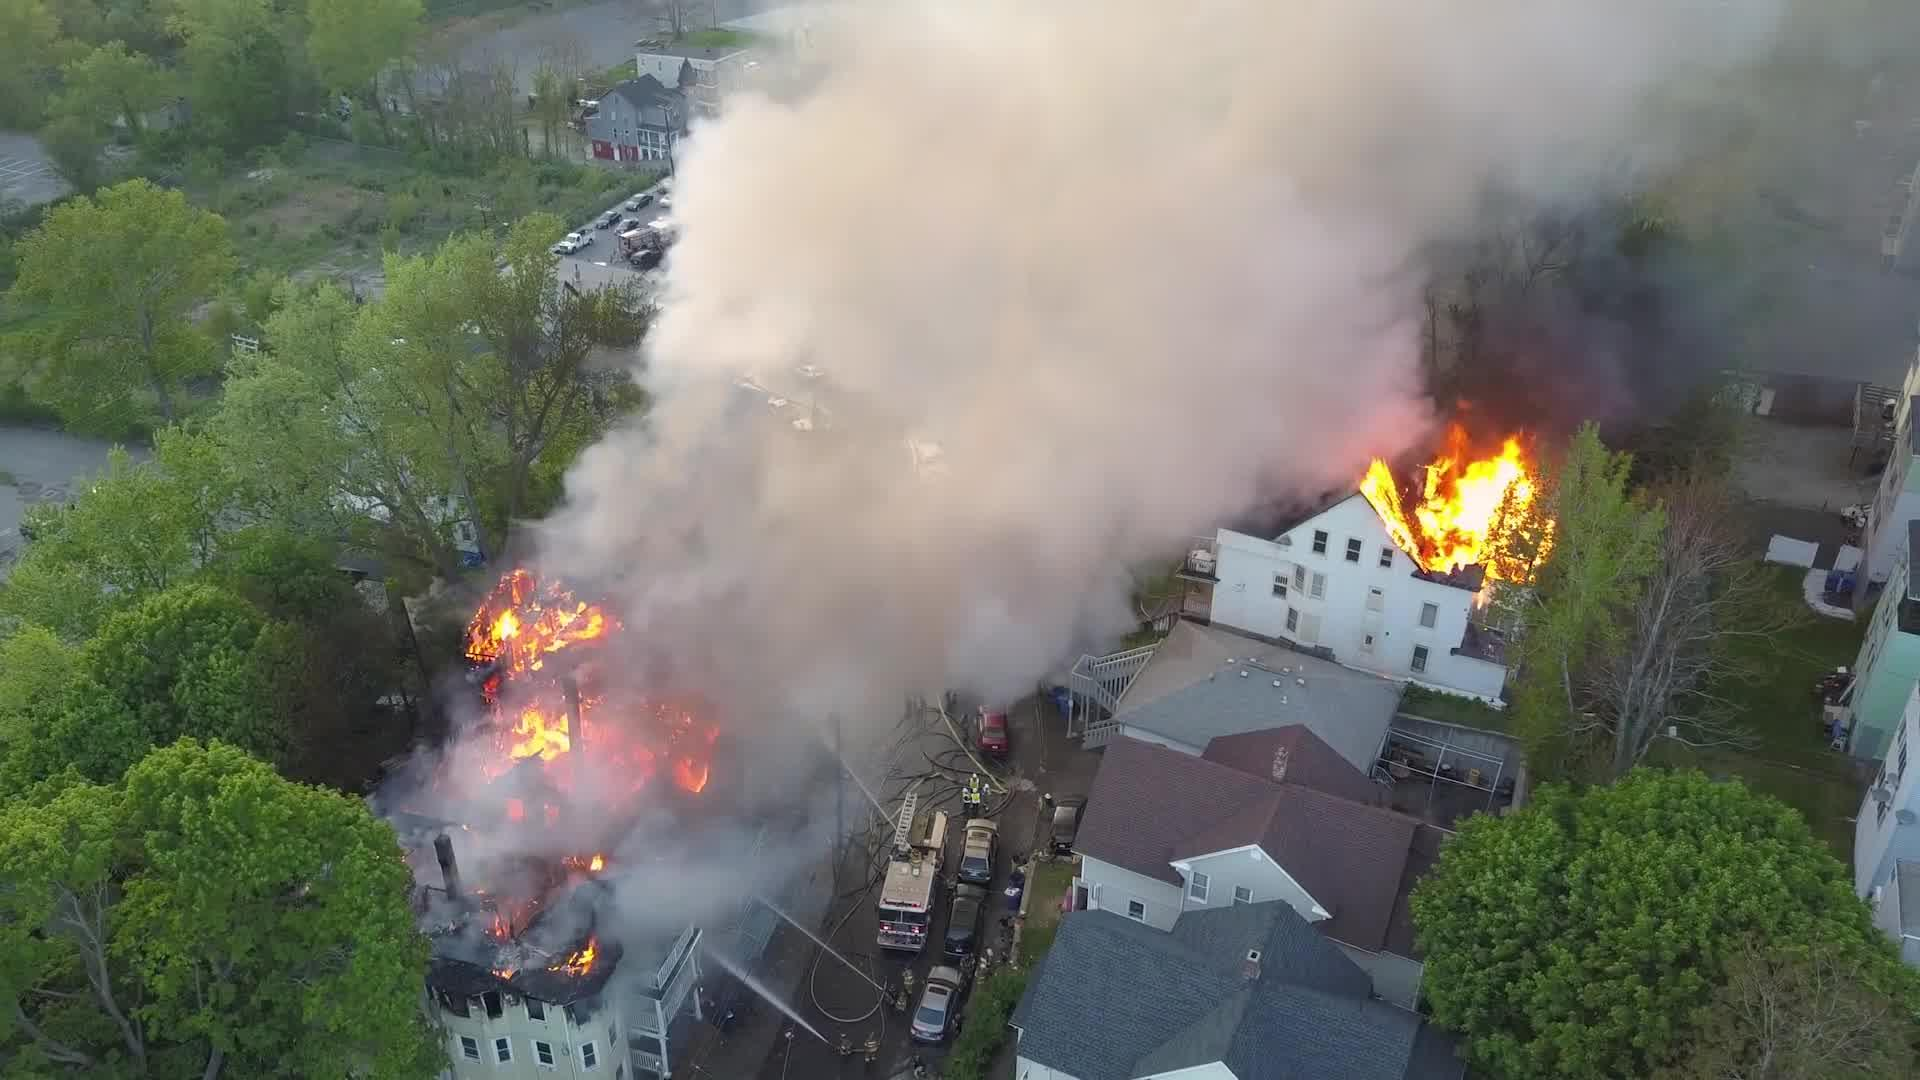fire: (470, 580, 597, 737), (1431, 443, 1556, 569)
smoke: (744, 6, 1487, 280), (654, 324, 1310, 511), (613, 536, 926, 773)
